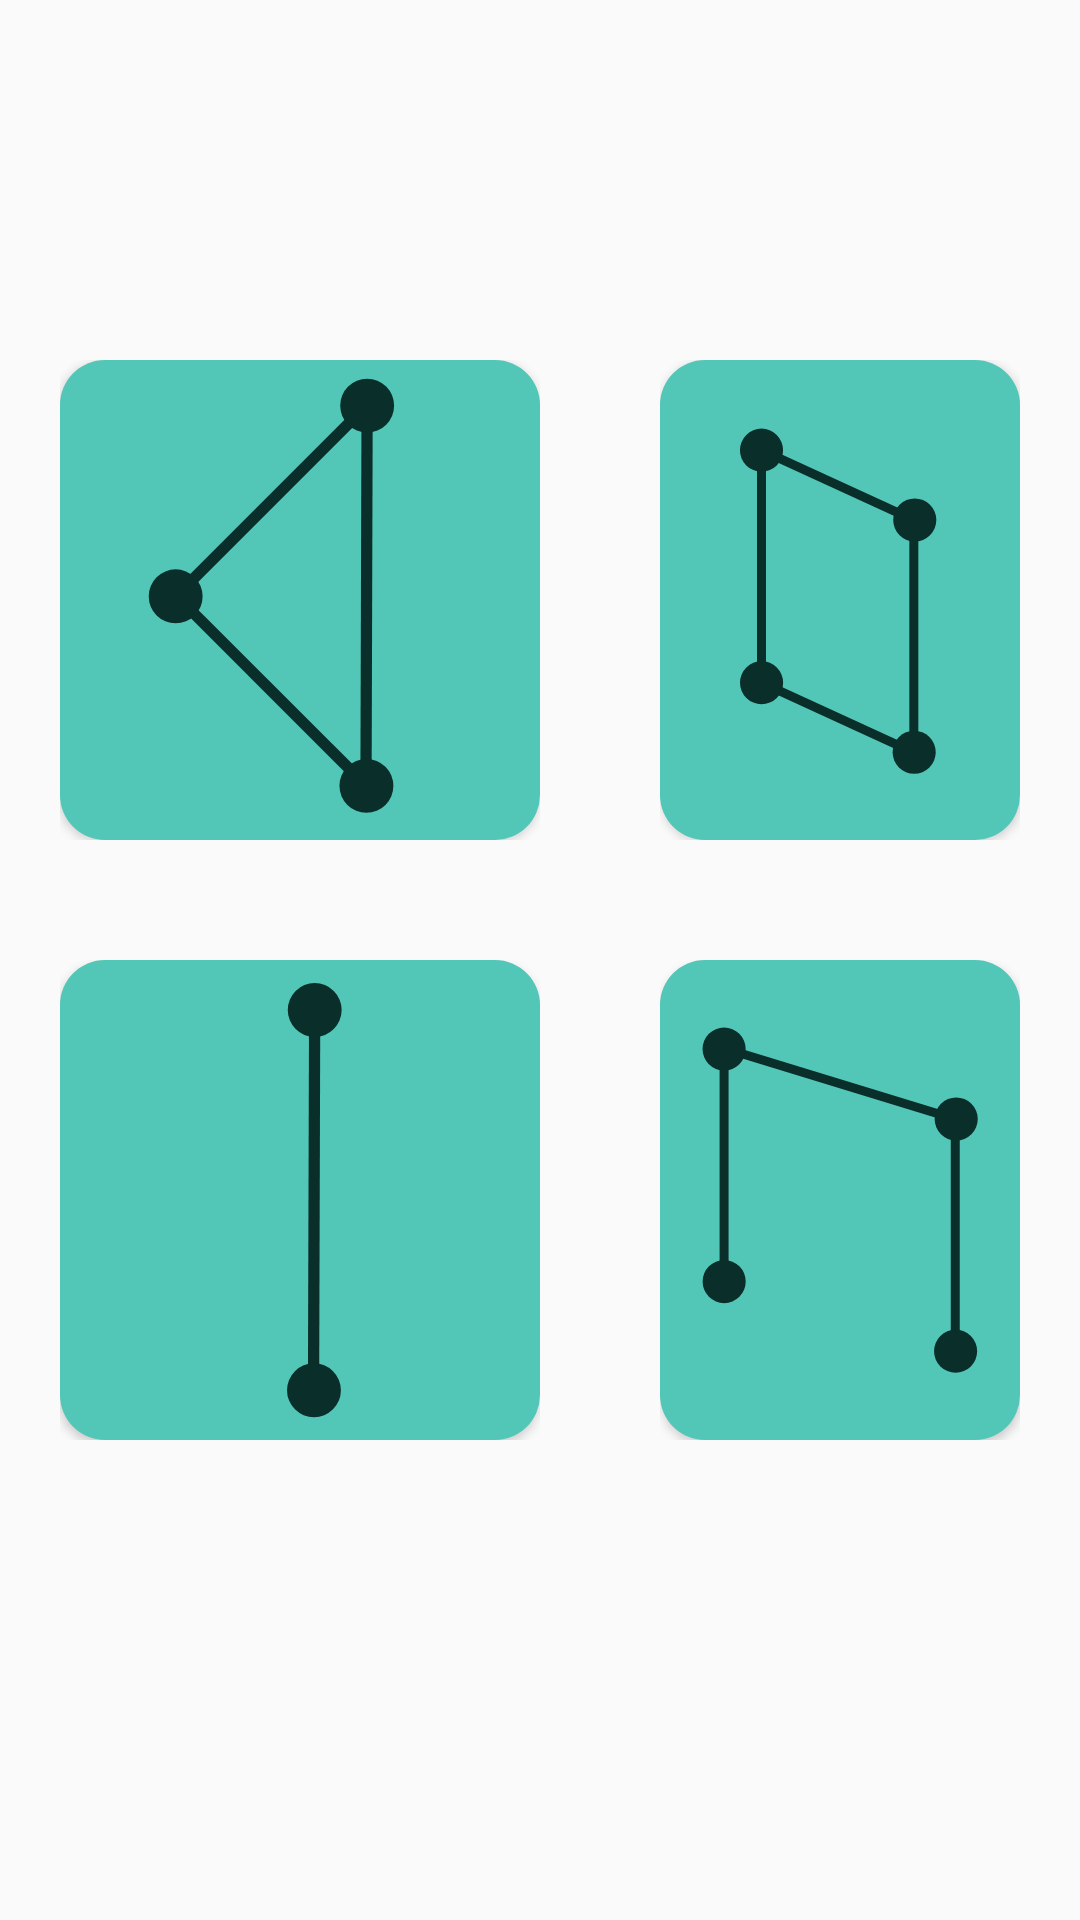

Screen size 1080x1920. Icon name, then its box in pixels as bbox=(x1, y1, x2, y2):
trapezoid: bbox=(740, 428, 937, 774)
